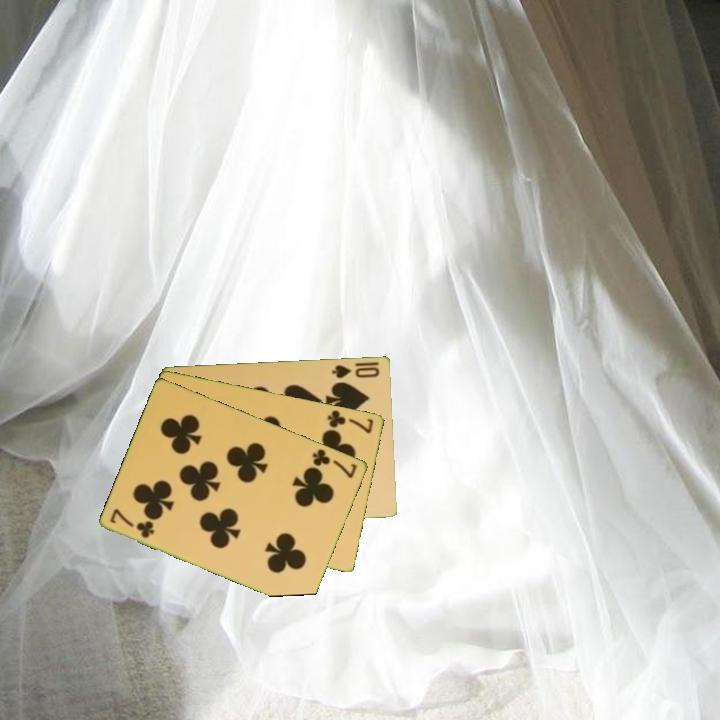10s: (329, 361, 383, 381)
7c: (309, 445, 360, 481), (107, 505, 157, 541), (324, 406, 376, 436)
